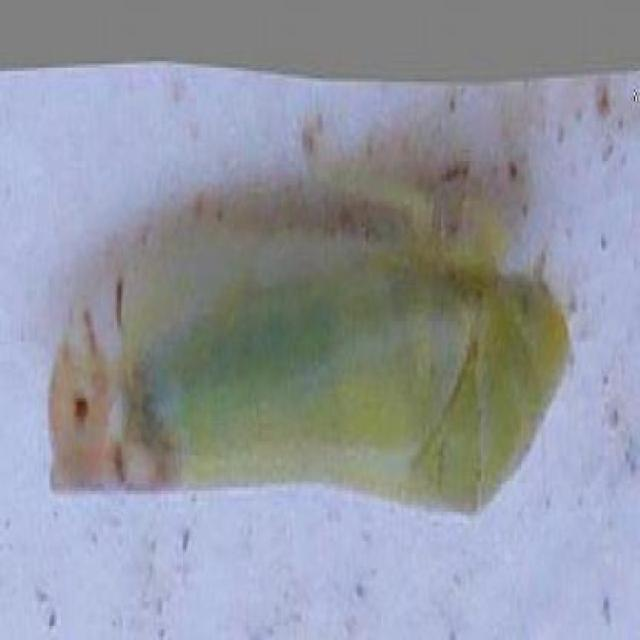green-leafhopper: (47, 210, 551, 516)
